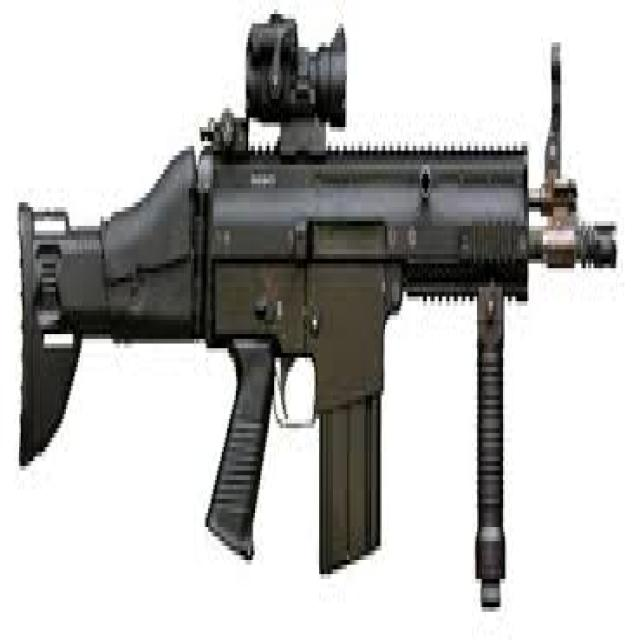Gun: (6, 9, 620, 612)
